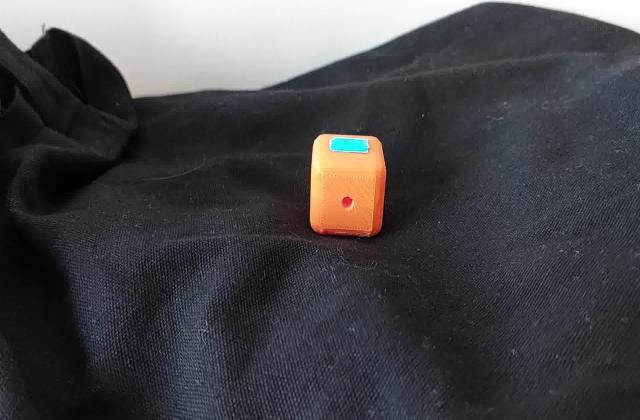blue: (338, 141, 364, 148)
cube: (307, 130, 388, 241)
